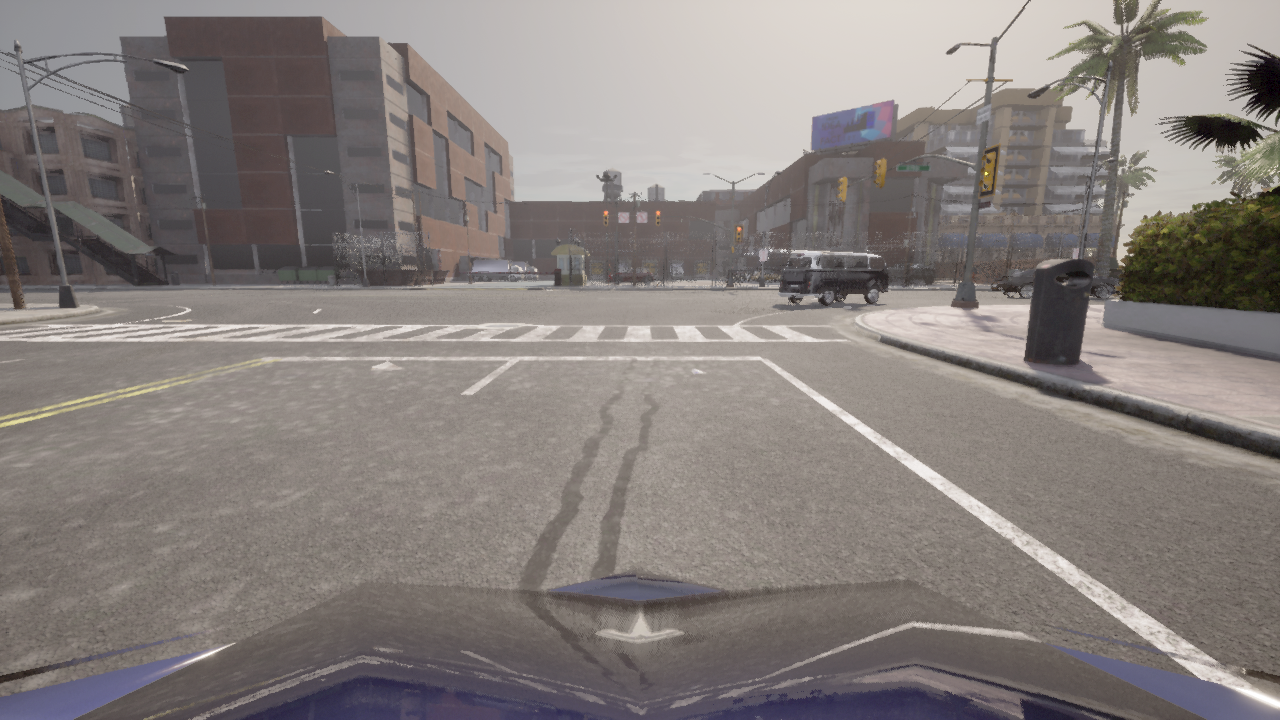cyclist: (0, 569, 1279, 719), (779, 250, 889, 306), (990, 268, 1120, 299), (471, 260, 524, 281), (888, 263, 934, 284), (495, 262, 538, 280), (612, 268, 653, 283), (726, 268, 760, 280), (749, 270, 781, 281), (670, 263, 683, 279), (734, 271, 755, 280), (619, 263, 628, 272), (744, 274, 753, 281)
pedestrian: (904, 263, 915, 286), (605, 263, 615, 286), (971, 264, 978, 286)
